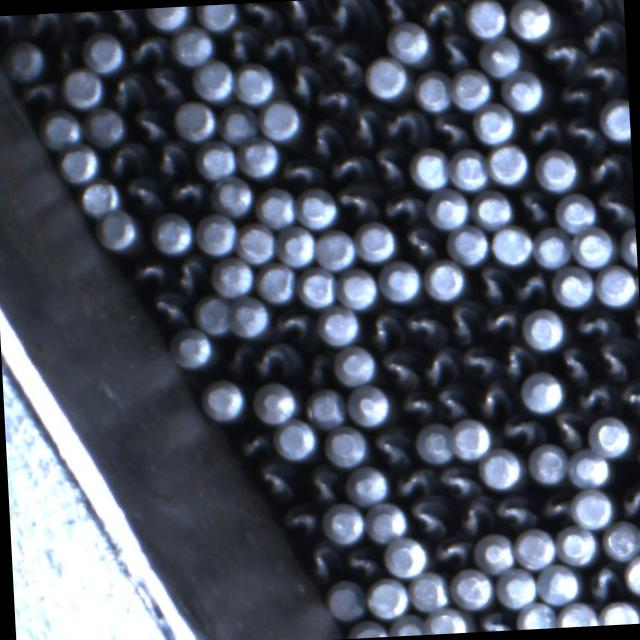tool: (253, 381, 300, 425), (520, 308, 566, 352), (364, 56, 409, 100), (387, 19, 432, 63), (588, 414, 633, 458), (377, 258, 422, 302), (365, 575, 411, 618), (550, 263, 596, 306), (150, 212, 196, 255), (479, 448, 525, 491), (170, 24, 217, 66), (514, 526, 558, 570), (259, 98, 303, 142), (202, 377, 246, 421), (536, 147, 580, 191), (348, 384, 392, 428), (383, 535, 428, 578), (322, 502, 367, 545), (170, 327, 215, 370), (536, 563, 582, 605), (272, 418, 318, 460), (212, 255, 256, 298), (195, 211, 238, 255), (235, 60, 278, 104), (174, 98, 218, 141), (408, 146, 451, 190), (502, 69, 546, 112), (520, 371, 564, 414), (451, 567, 495, 610), (212, 173, 256, 216), (326, 425, 370, 468), (333, 342, 378, 384), (471, 102, 516, 144), (318, 304, 363, 346), (306, 388, 352, 429), (336, 265, 379, 308), (82, 31, 125, 74), (427, 186, 471, 228), (424, 258, 468, 300), (490, 224, 534, 266), (570, 488, 614, 530), (239, 136, 283, 178), (356, 220, 398, 264), (488, 144, 532, 186), (594, 264, 638, 306), (572, 227, 616, 269), (230, 294, 272, 338), (297, 186, 339, 230), (42, 110, 86, 152), (98, 209, 142, 251), (449, 418, 491, 461), (63, 66, 106, 108), (257, 187, 299, 230), (556, 524, 599, 566), (554, 190, 597, 232), (447, 223, 490, 265), (192, 60, 235, 102), (366, 500, 409, 542), (346, 464, 390, 505), (414, 422, 455, 466), (510, 0, 555, 40), (530, 444, 572, 486), (452, 68, 494, 110), (494, 566, 536, 608), (475, 531, 517, 573), (4, 40, 46, 82), (218, 102, 260, 144), (410, 570, 452, 612), (450, 147, 491, 190), (567, 448, 610, 489), (464, 0, 509, 39), (317, 228, 358, 270), (326, 578, 367, 620), (414, 70, 455, 112), (298, 266, 339, 308), (194, 294, 234, 336), (276, 224, 316, 266), (258, 261, 298, 303), (195, 140, 237, 180), (474, 186, 516, 226), (238, 222, 278, 263), (86, 106, 127, 146), (534, 228, 574, 268), (79, 181, 120, 219), (602, 520, 640, 561), (60, 145, 100, 183), (424, 606, 474, 634), (601, 98, 631, 141), (558, 600, 601, 628), (196, 4, 238, 32), (518, 602, 558, 630), (599, 598, 640, 625), (145, 7, 192, 30), (386, 613, 424, 637), (346, 618, 389, 639), (618, 226, 638, 268), (624, 554, 640, 596), (637, 515, 640, 557)
tool_b: (324, 39, 367, 90), (380, 102, 428, 146), (252, 338, 303, 379), (580, 146, 628, 188), (593, 336, 637, 381), (374, 345, 419, 389), (250, 457, 296, 500), (494, 412, 544, 450), (368, 426, 413, 468), (583, 54, 628, 96), (571, 306, 620, 344), (408, 496, 452, 538), (318, 0, 374, 33), (106, 68, 151, 109), (538, 36, 584, 76), (432, 462, 480, 500), (594, 185, 636, 228), (420, 344, 462, 387), (402, 306, 445, 348), (471, 262, 514, 304), (336, 182, 379, 224), (368, 144, 409, 188), (146, 288, 191, 328), (443, 298, 482, 344), (578, 18, 624, 57), (379, 187, 426, 225), (452, 494, 494, 536), (302, 464, 344, 506), (149, 138, 191, 180), (426, 109, 470, 149), (256, 27, 302, 65), (363, 307, 405, 348), (474, 378, 516, 419), (283, 62, 324, 104), (343, 104, 382, 148), (126, 105, 170, 144), (572, 378, 616, 416), (431, 532, 475, 570), (492, 492, 536, 530), (270, 304, 314, 342), (125, 31, 170, 68), (304, 118, 344, 159), (122, 174, 164, 213), (162, 173, 206, 210), (168, 254, 208, 294), (106, 138, 148, 176), (278, 502, 320, 540), (560, 112, 602, 150), (392, 388, 437, 423), (148, 64, 188, 103), (551, 408, 589, 449), (391, 464, 434, 500), (126, 256, 170, 291), (552, 76, 596, 111), (460, 343, 500, 381), (510, 269, 550, 307), (398, 223, 439, 260), (326, 150, 370, 184), (314, 84, 358, 118), (514, 187, 552, 226), (556, 344, 593, 384), (522, 112, 563, 148), (586, 562, 624, 600), (341, 543, 381, 579), (304, 542, 340, 582), (480, 304, 521, 339), (436, 383, 473, 421), (280, 155, 322, 188), (436, 31, 473, 68), (498, 342, 534, 380), (22, 77, 64, 109), (224, 24, 258, 63), (422, 0, 463, 32), (276, 0, 318, 30), (235, 428, 272, 462), (240, 2, 284, 30), (537, 490, 573, 524), (302, 348, 334, 386), (301, 23, 335, 58), (26, 13, 68, 38), (106, 9, 146, 34), (50, 38, 82, 68), (476, 609, 517, 632), (617, 378, 640, 417), (617, 480, 640, 519), (69, 10, 107, 32), (379, 0, 413, 24), (562, 0, 595, 19), (0, 15, 23, 36)
